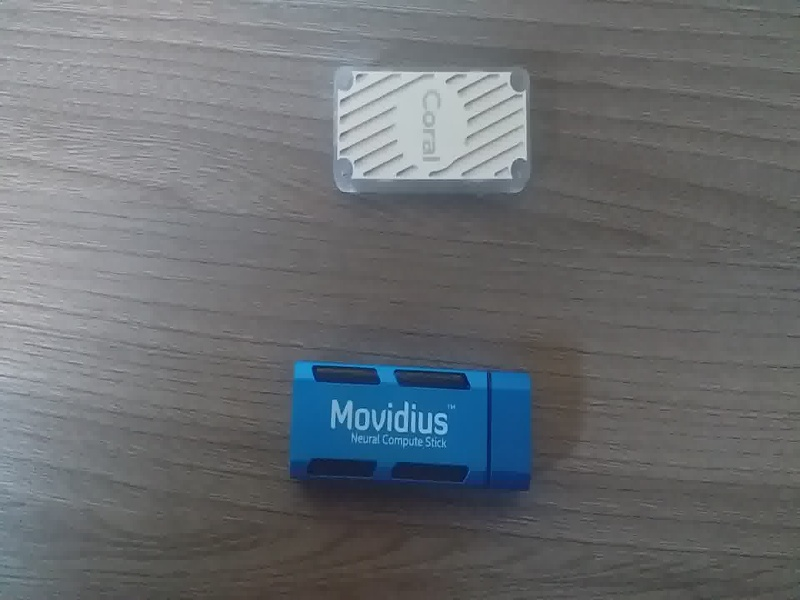coral: (330, 61, 546, 203)
movidius: (282, 352, 547, 501)
